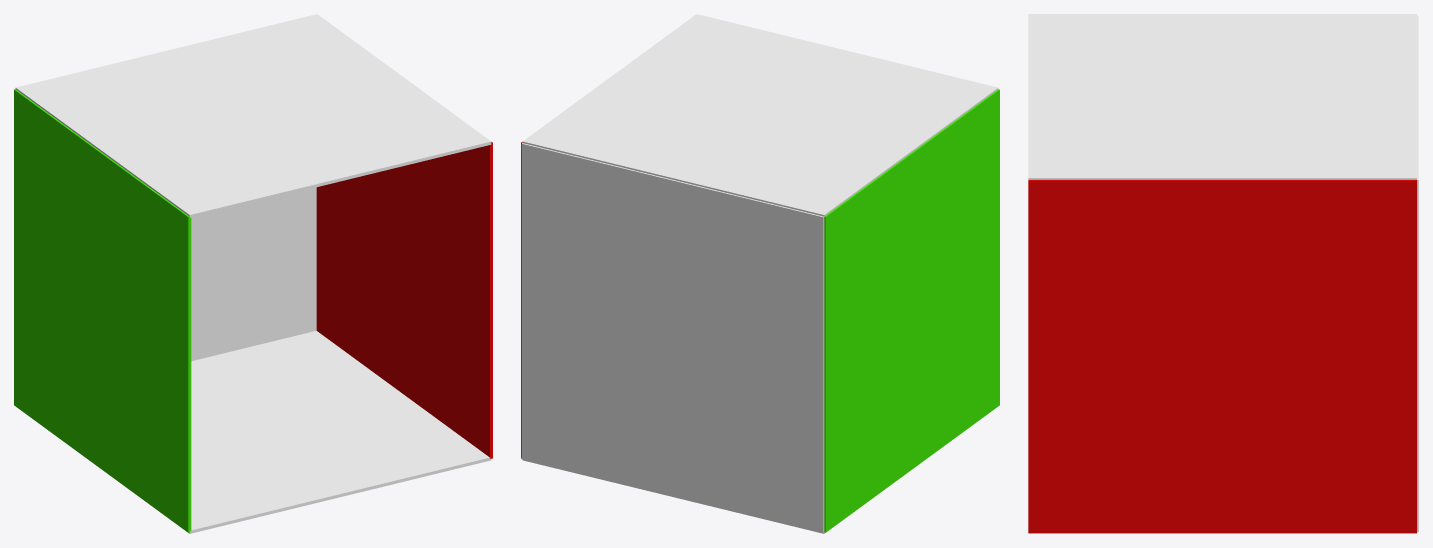
The model's file is cornellBoxEmpty.gltf.
3 renders of one model, left to right at view 1: azimuth 30°, elevation 25°; view 2: azimuth 150°, elevation 25°; view 3: azimuth 270°, elevation 25°, orthographic. The views are drawn at different scales.
Parts seen in each view (by area): view 1: cube_instance_5, cube_instance_3, cube_instance_6, cube_instance_2, cube_instance; view 2: cube_instance, cube_instance_5, cube_instance_3; view 3: cube_instance_6, cube_instance_3, cube_instance.
Part boxes in pixels (<box>): cube_instance_5: <box>14,89,191,532</box>; cube_instance_3: <box>15,14,491,217</box>; cube_instance_6: <box>316,142,492,458</box>; cube_instance_2: <box>21,331,491,533</box>; cube_instance: <box>15,88,316,361</box>; cube_instance: <box>521,143,824,532</box>; cube_instance_5: <box>824,89,999,532</box>; cube_instance_3: <box>522,14,998,216</box>; cube_instance_6: <box>1028,180,1416,532</box>; cube_instance_3: <box>1028,14,1416,179</box>; cube_instance: <box>1417,15,1418,532</box>.
Size of the model in its own units: 10.1 by 10.1 by 10.05.
